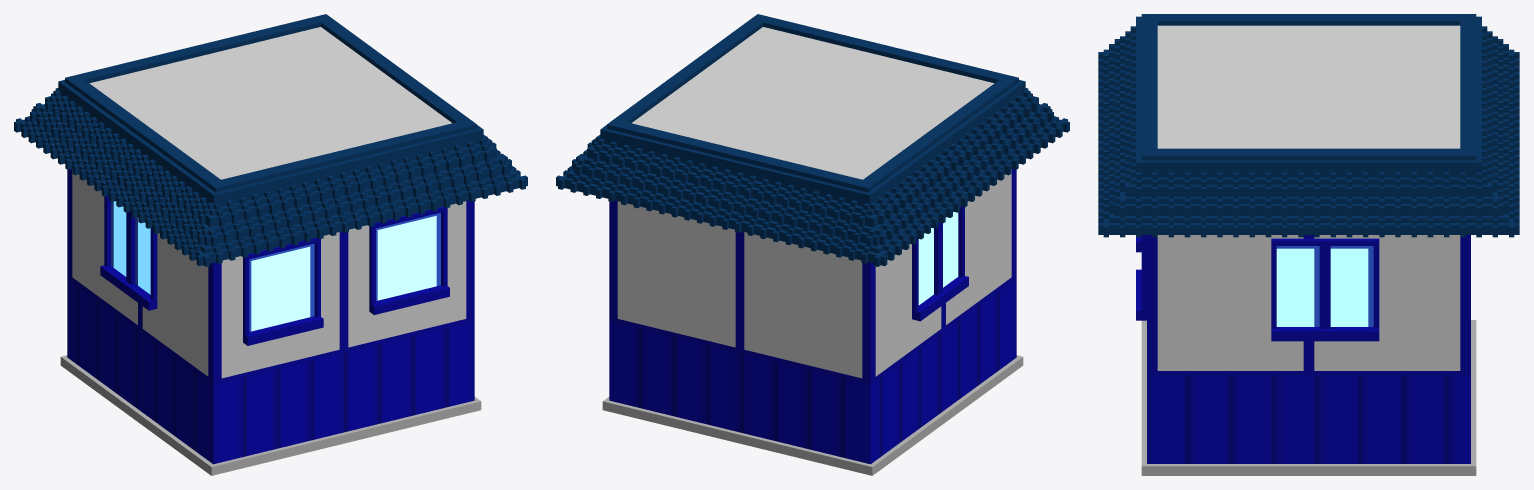
The model's file is typeFiveteen.glb.
3 views of the same model, side by side, from view 1: azimuth 30°, elevation 25°; view 2: azimuth 150°, elevation 25°; view 3: azimuth 270°, elevation 25° (orthographic). The views are drawn at different scales.
Visible parts, largest first — view 1: ObjObject; view 2: ObjObject; view 3: ObjObject.
Part boxes in pixels (x1=…): ObjObject: x1=14, y1=14, x2=527, y2=475; ObjObject: x1=556, y1=14, x2=1069, y2=475; ObjObject: x1=1098, y1=14, x2=1519, y2=475.
Bounding box in the file's own units: 7.8 × 6.5 × 7.8.
Materials: 2 (1 with a texture image).
